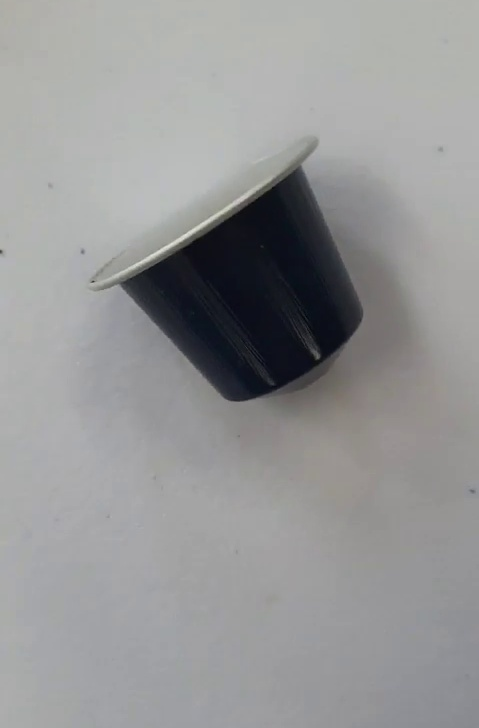capsule_1: (86, 133, 372, 405)
